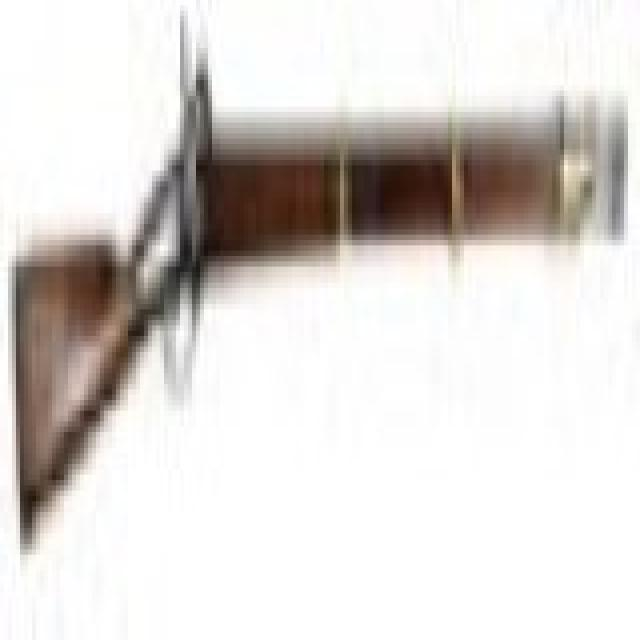Gun: (8, 17, 628, 523)
